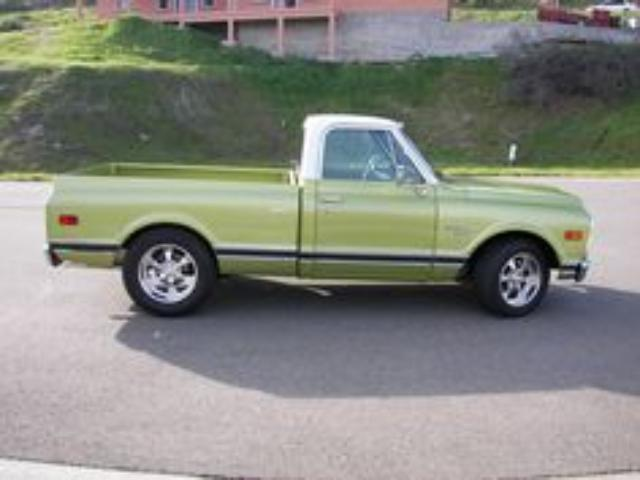pickup-truck: (43, 114, 594, 320)
